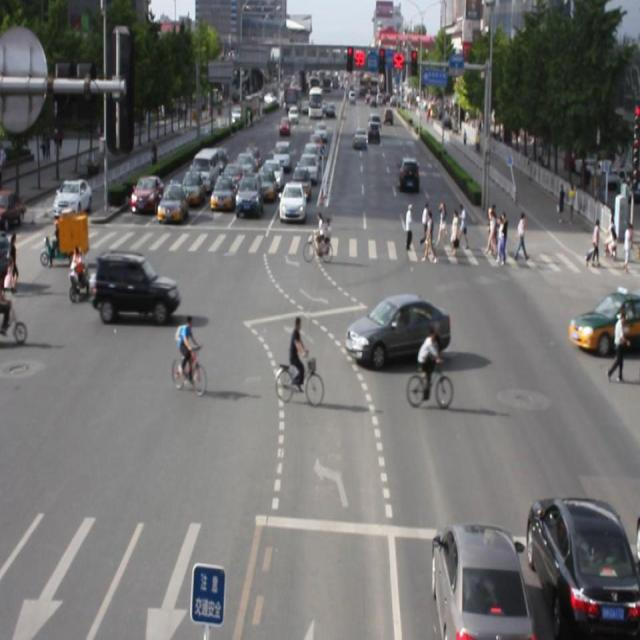car: (523, 495, 640, 640), (429, 524, 530, 640), (345, 292, 450, 366), (94, 249, 180, 323)
